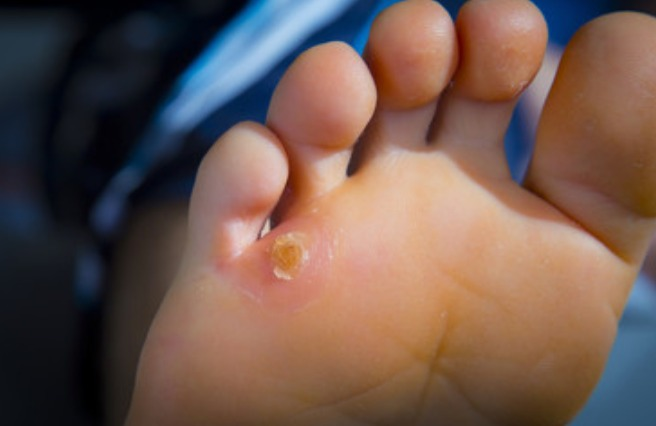Warts: (266, 229, 321, 300)
